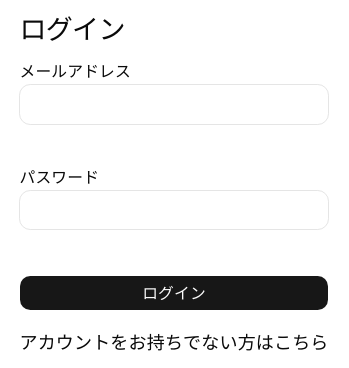
it: LoginPage › shows validation error when password is empty
The image size is (349, 368).
Type "test@example.com" into the field labelled "メールアドレス".
click(174, 104); type("test@example.com")  # box [20,84,329,124]
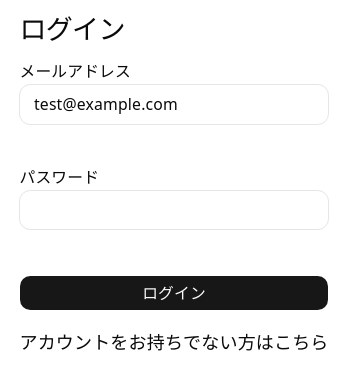
Click the button "ログイン".
click(174, 293)  # box [20,275,329,311]
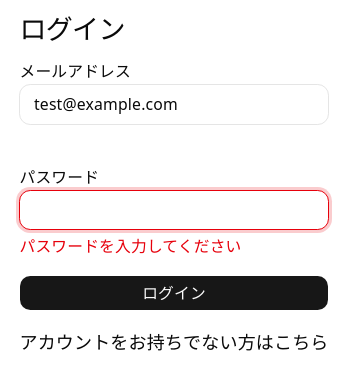
Result: the text "パスワードを入力してください" is shown at [20,235,242,257]
